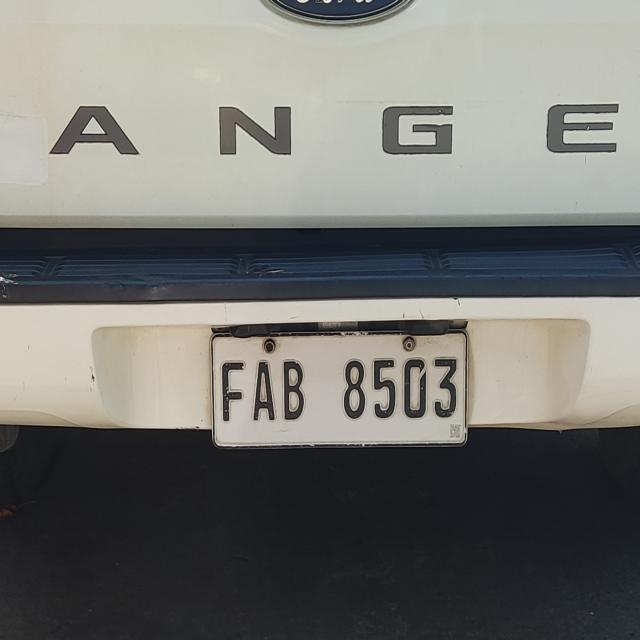plate: (208, 328, 470, 452)
